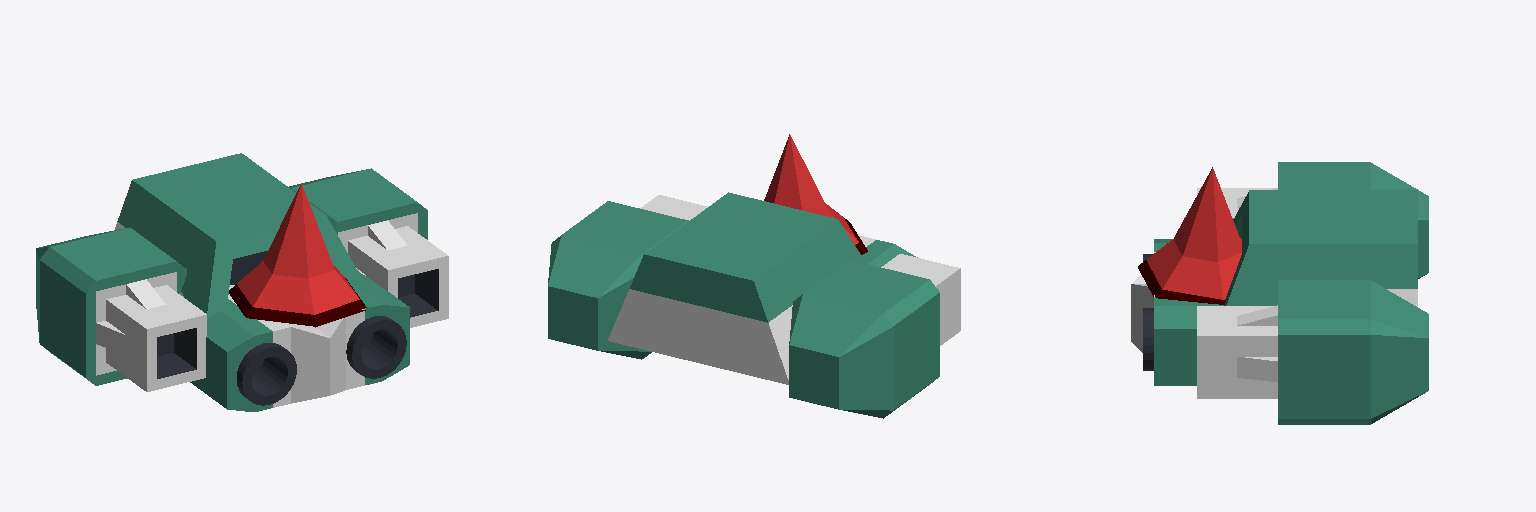
The model's file is flying_01_04.obj.
The picture shows the model from 3 angles: view 1: azimuth 30°, elevation 25°; view 2: azimuth 150°, elevation 25°; view 3: azimuth 270°, elevation 25°; orthographic projection.
Visible parts, largest first — view 1: mergedBlocks; view 2: mergedBlocks; view 3: mergedBlocks.
Boxes of the visible parts, <box> form: mergedBlocks: <box>36,153,448,411</box>; mergedBlocks: <box>548,134,960,418</box>; mergedBlocks: <box>1131,162,1428,424</box>.
Bounding box in the file's own units: 1.87 × 0.9922 × 1.41.